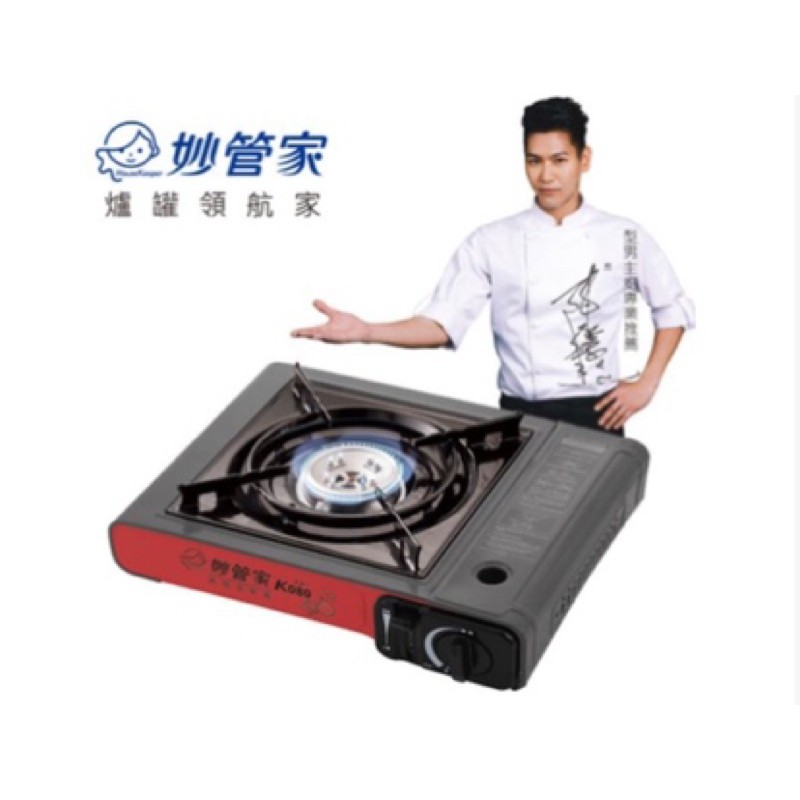gasoven: (103, 342, 658, 701)
